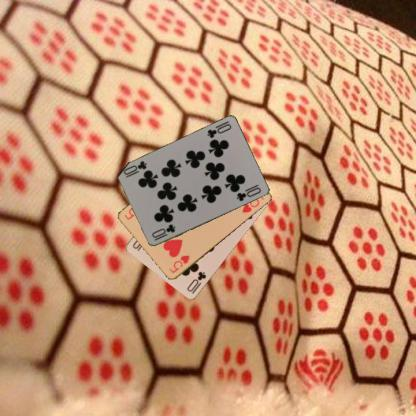10c: (184, 269, 208, 294), (149, 222, 177, 242), (205, 121, 232, 140)
5h: (166, 252, 191, 274)
